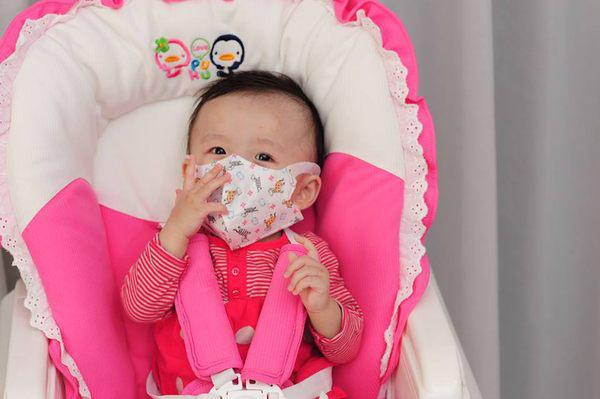OK: (195, 131, 299, 235)
